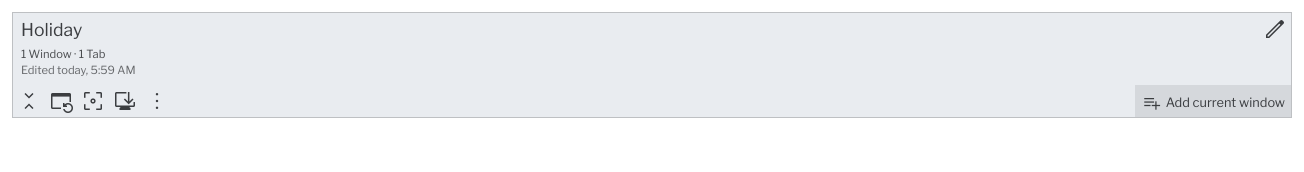
rename drafts survive the prop moving underneath them (KAN-51) › session title (HeroContainerRight) › the rename field seeds from the session selected now, not the one selected at mount
Expected: the text "Research" is shown, x1=21 y1=18 x2=82 y2=40
Click the button "Holiday": click(52, 29) x1=13 y1=13 x2=90 y2=45
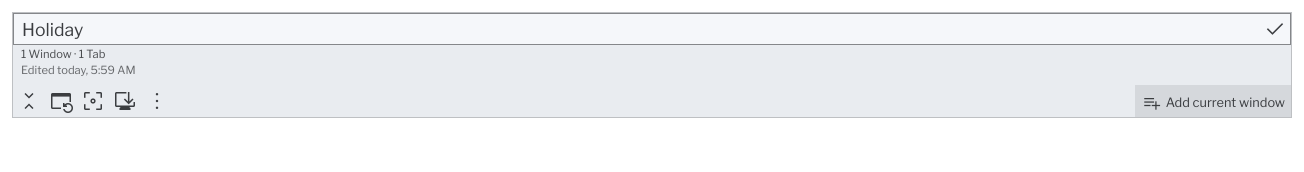
Now the field holds "Holiday", box x1=13 y1=13 x2=1291 y2=45
